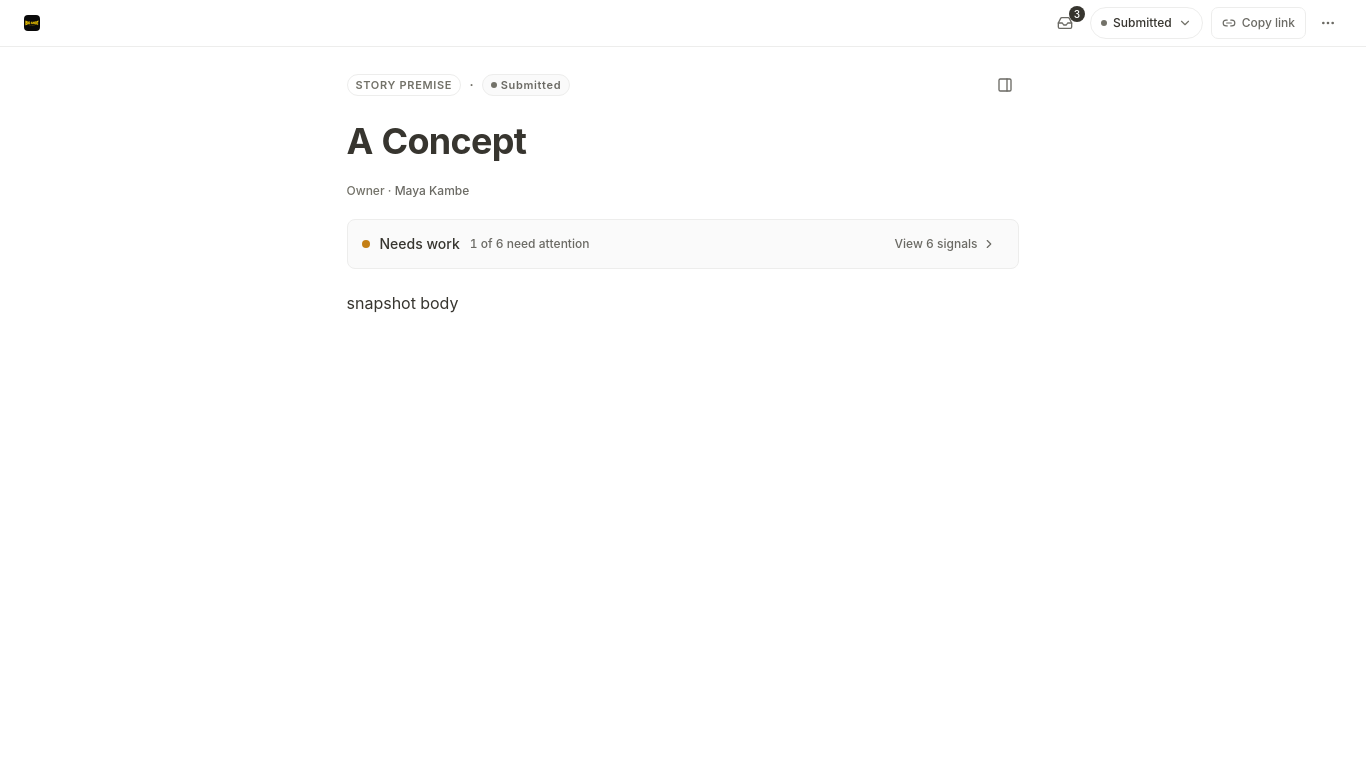
Test case: DocumentPage read mode — reviewer actions › shows the snapshot verdict inline in the review panel and offers reviewer status
The image size is (1366, 768).
Expected: the text "Needs work" is shown, [380,234,460,254]
Expected: the button with aria-label "change review status" is shown, [1090,7,1203,39]
Click the button "View 6 signals" at (945, 244), box [886,232,1004,256]
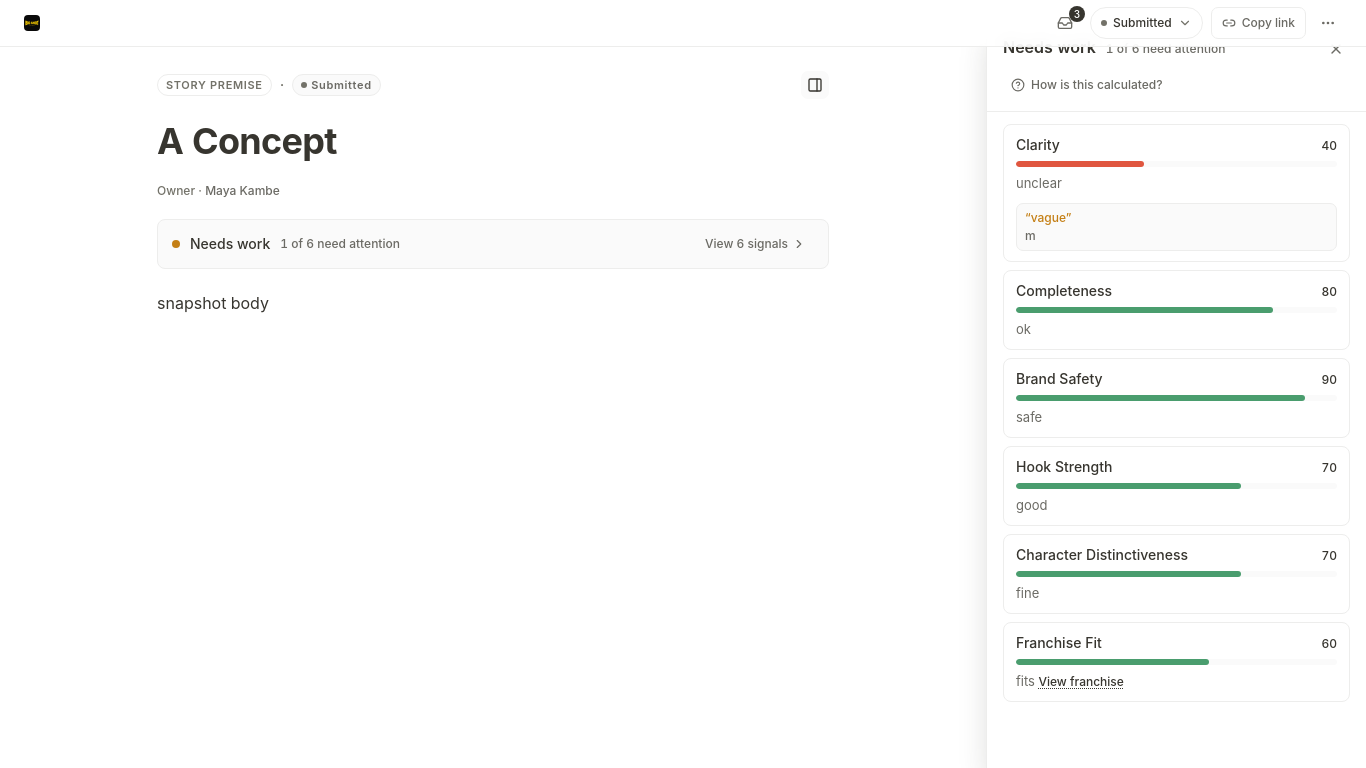
Now the heading "Needs work" is shown, box [1003,35,1096,59]
